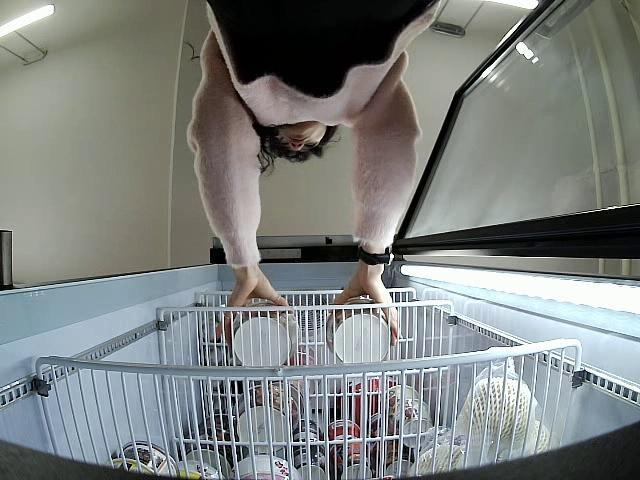03_chapagetti_L: (326, 298, 394, 366), (230, 302, 300, 367)
